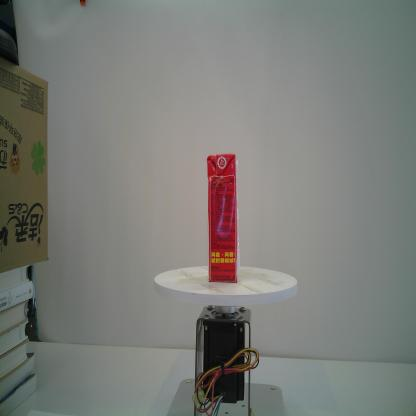Milk: (207, 153, 238, 283)
